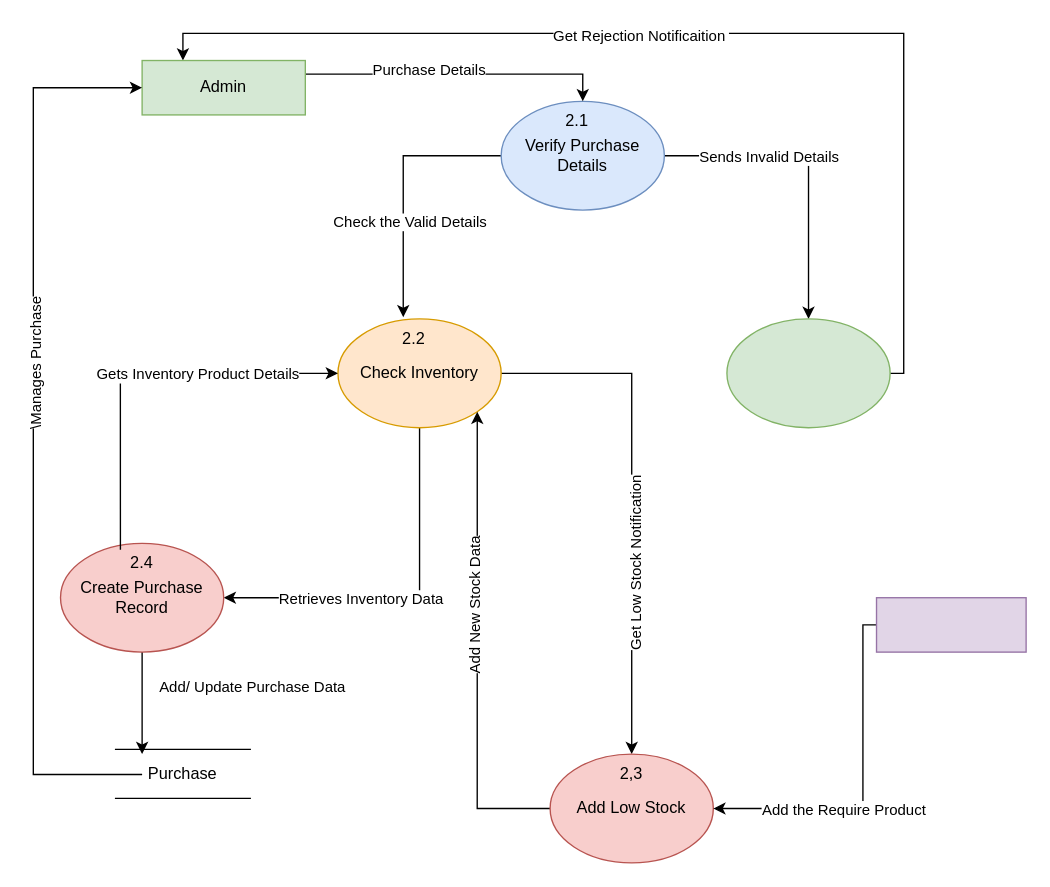
This 1050x887 diagram has some shape labels left out. The shapes that lost their labels are listed below. From the top down, each one's box as (x1, y1, x2, y2) in pixels, then its label:
(726, 318, 890, 428): Rejection
(875, 596, 1026, 652): Suppilers
